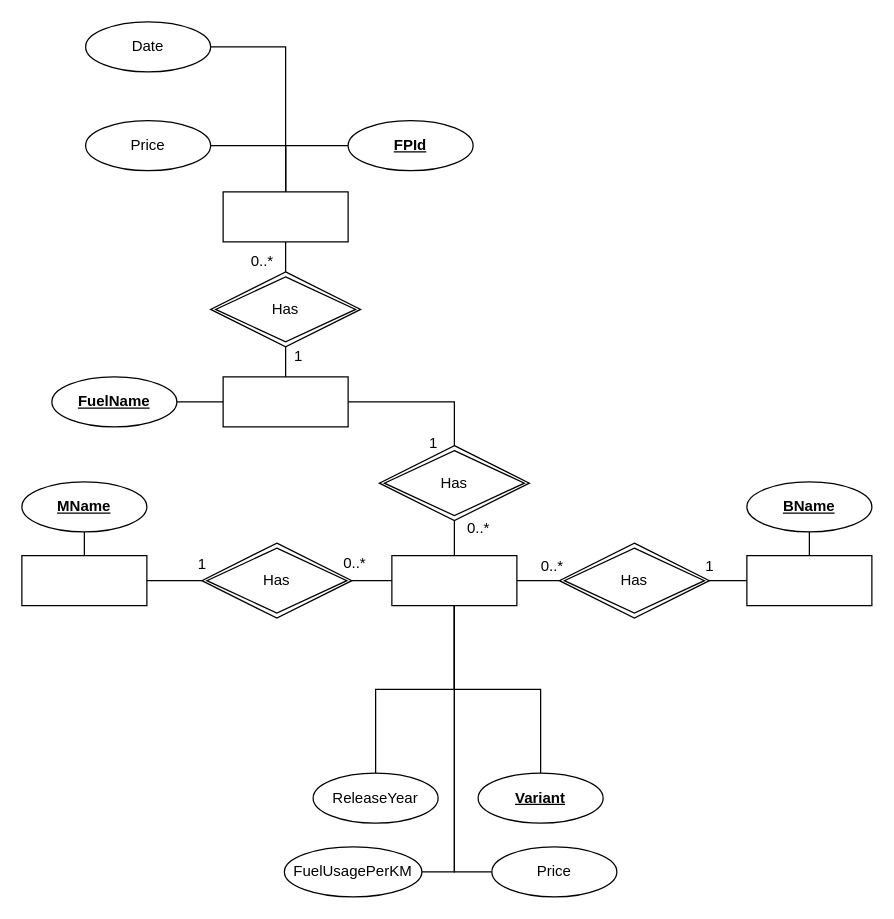
This 894x919 diagram has some shape labels left out. Here are the shapes that lost their labels. From the top down, the centre of each, then its label:
At point 285,216: "FuelPrices".
At point 285,401: "FuelType".
At point 84,580: "Model".
At point 454,580: "Car".
At point 809,580: "Brand".
